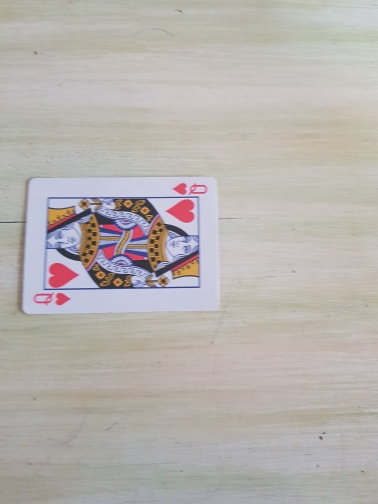queen: (20, 175, 221, 317)
